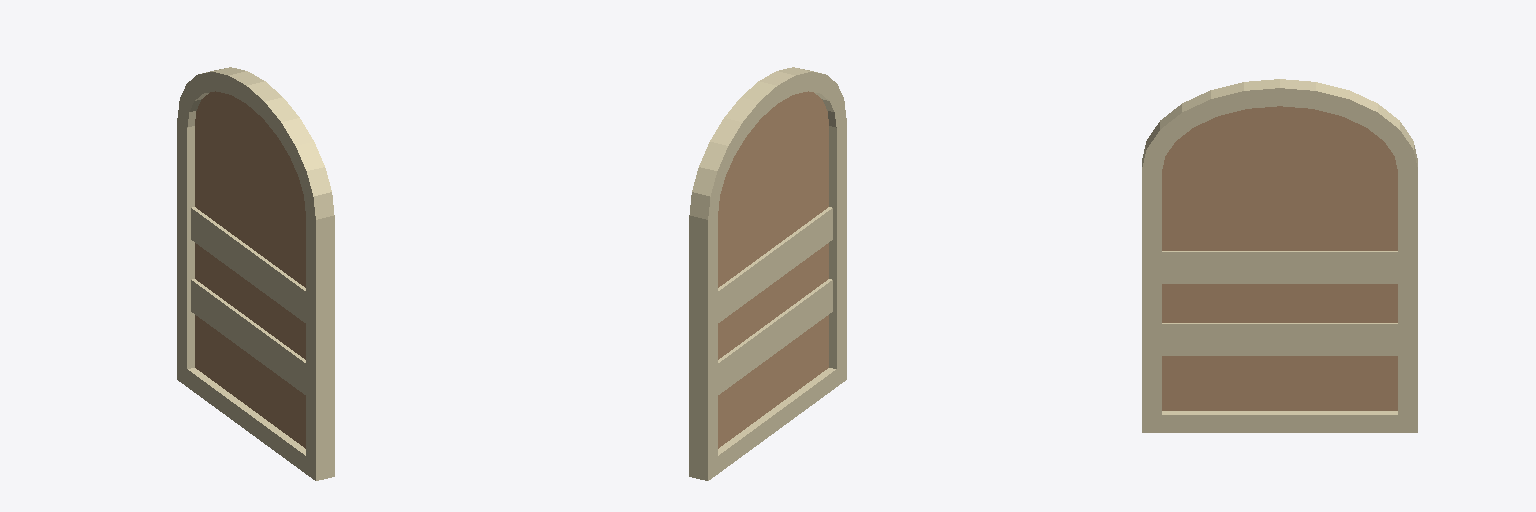
The model's file is gate.obj.
The picture shows the model from 3 angles: view 1: azimuth 30°, elevation 25°; view 2: azimuth 150°, elevation 25°; view 3: azimuth 270°, elevation 25°; orthographic projection.
Visible parts, largest first — view 1: gate; view 2: gate; view 3: gate.
Part boxes in pixels (left/top/right/bottom): gate: left=177, top=67, right=334, bottom=480; gate: left=689, top=67, right=846, bottom=480; gate: left=1142, top=79, right=1417, bottom=432.
Size of the model in its own units: 0.516 by 9.1 by 6.62.